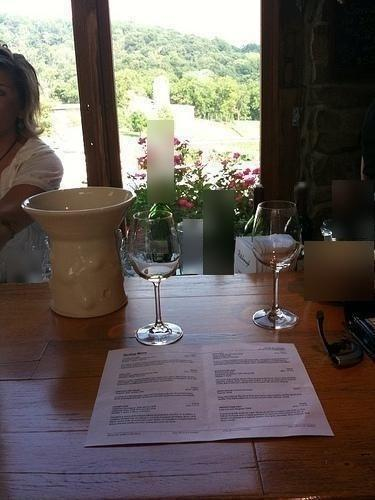glass-wine: (127, 209, 184, 346), (251, 200, 304, 332)
